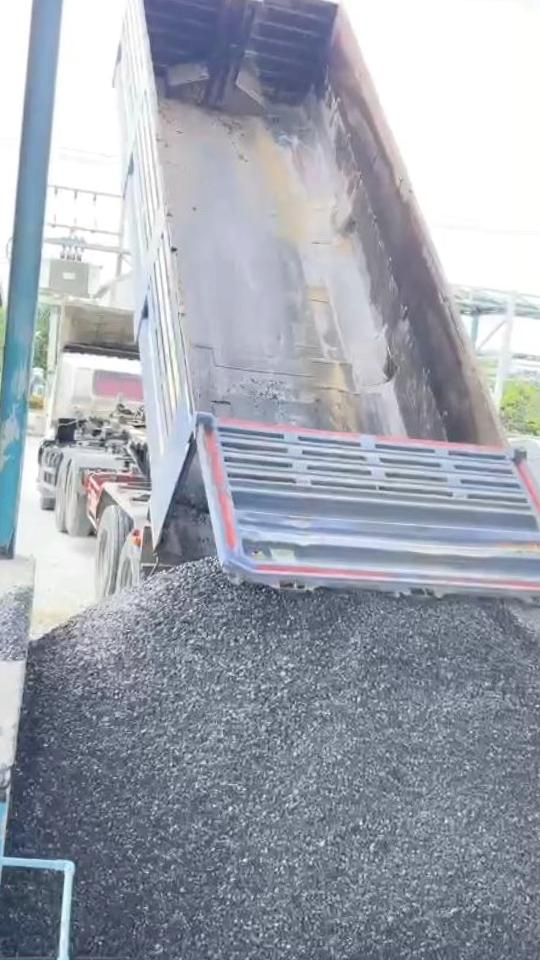gravel: (8, 561, 540, 960), (0, 872, 55, 955), (510, 605, 540, 688), (0, 588, 31, 661)
